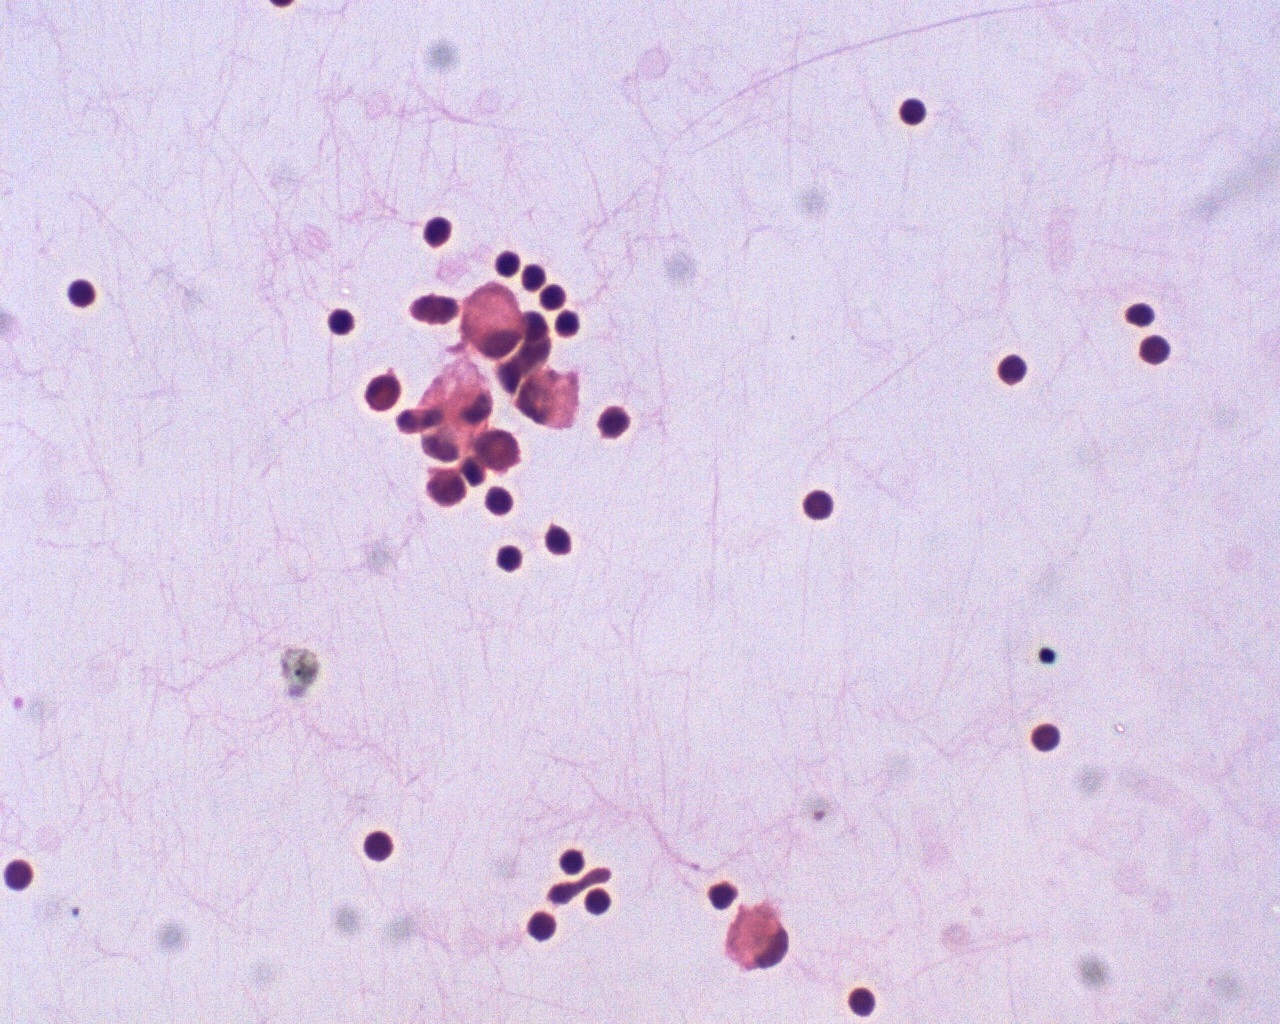histo: (457, 280, 525, 360), (720, 900, 792, 972)
lymph: (359, 824, 402, 869), (894, 89, 935, 136), (61, 271, 102, 315), (993, 350, 1035, 392), (796, 485, 839, 527), (1025, 719, 1067, 757), (325, 303, 362, 342)
